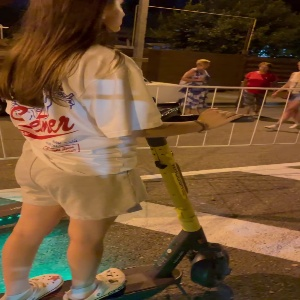human on a scooter: (1, 1, 261, 300)
